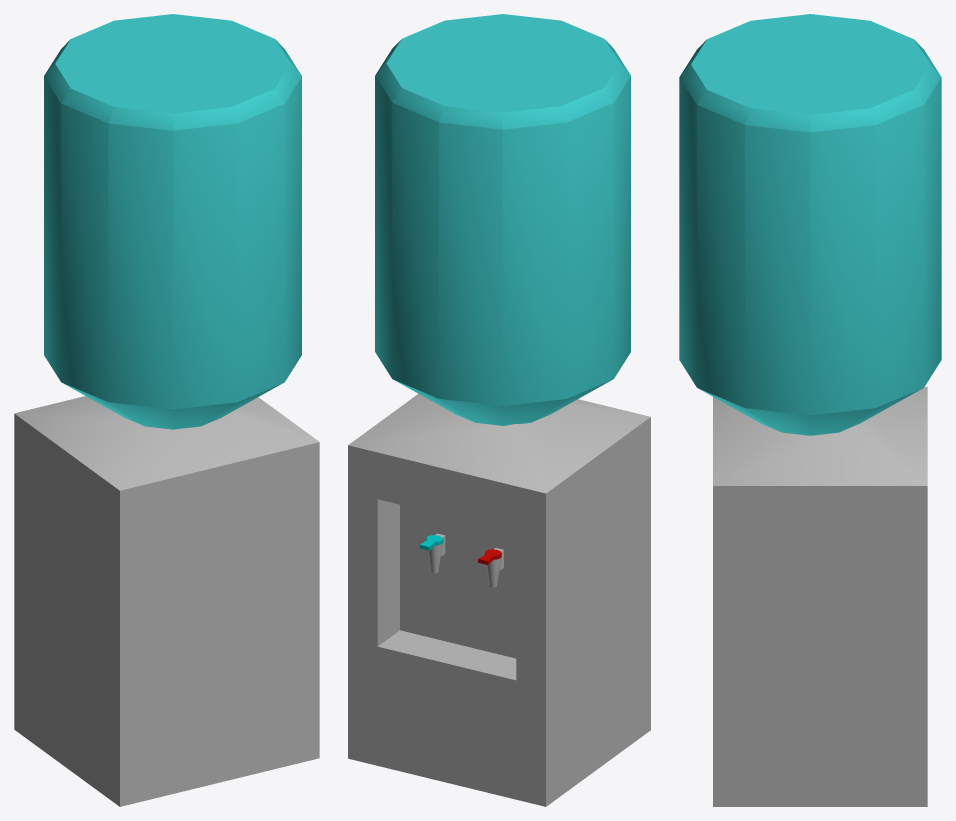
Rendered from WaterGarrafon.fbx.
The picture shows the model from 3 angles, left to right: view 1: azimuth 30°, elevation 25°; view 2: azimuth 150°, elevation 25°; view 3: azimuth 270°, elevation 25°; orthographic projection. The views are drawn at different scales.
Visible parts, largest first — view 1: Mesh (2); view 2: Mesh (2); view 3: Mesh (2).
Boxes of the visible parts, x1=… form: Mesh (2): x1=14, y1=14, x2=319, y2=806; Mesh (2): x1=348, y1=14, x2=650, y2=806; Mesh (2): x1=679, y1=14, x2=941, y2=806.
Size of the model in its own units: 94 by 274 by 94.
